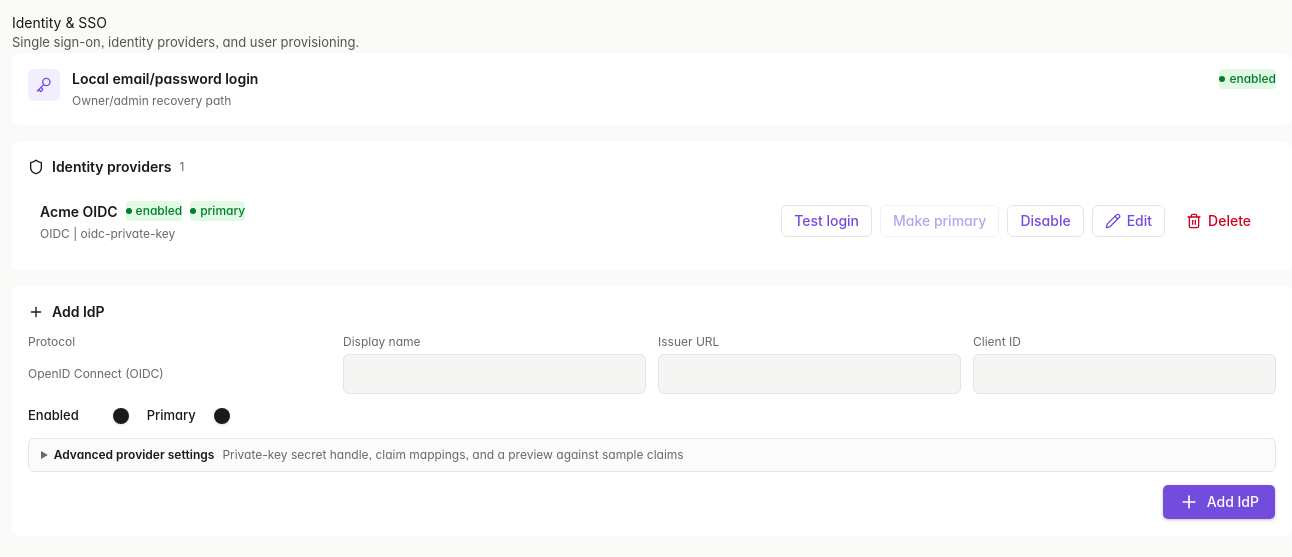
Test case: IdentityManagement › reports the production OIDC runtime as ready
Click the button "Test login".
click(827, 221)  # box top-left (781, 205), bottom-right (872, 237)
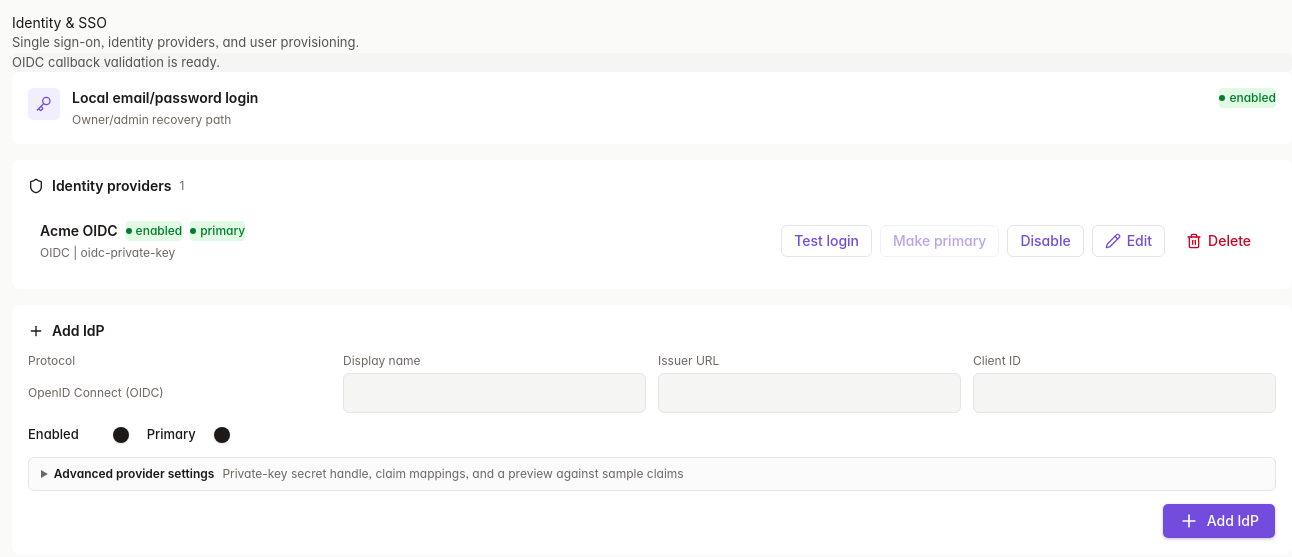
Now the text "OIDC callback validation is ready." is shown, box top-left (12, 52), bottom-right (1291, 72)
